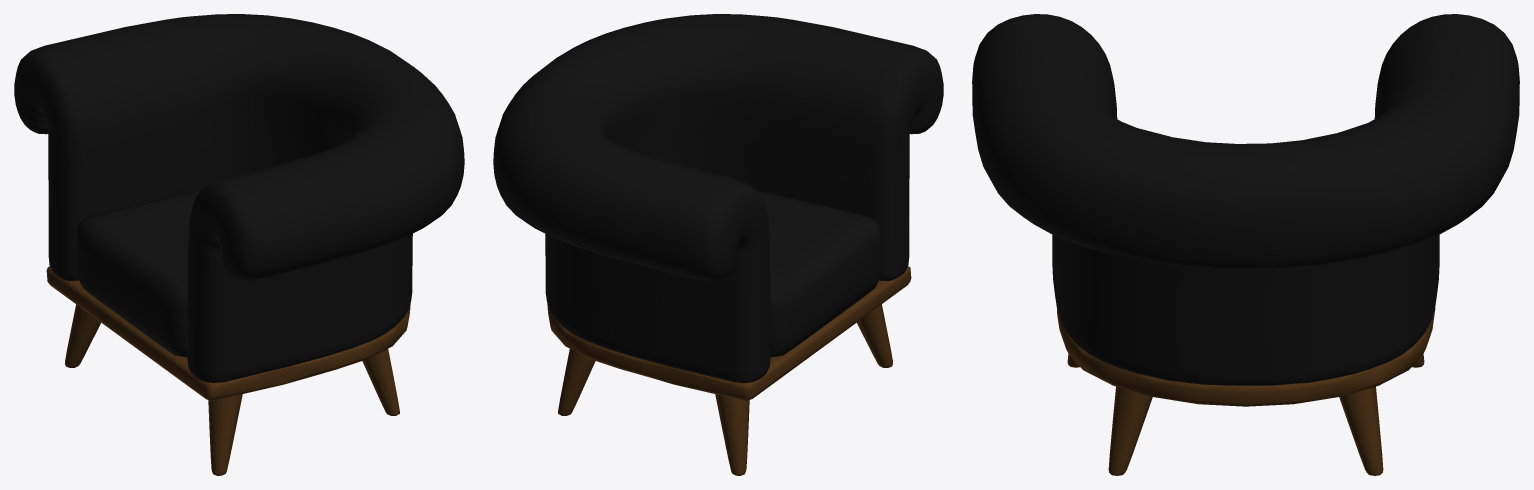
File: armchair_09_leather_black.fbx
3 renders of one model, left to right at view 1: azimuth 30°, elevation 25°; view 2: azimuth 150°, elevation 25°; view 3: azimuth 270°, elevation 25°, orthographic. The views are drawn at different scales.
Parts seen in each view (by area): view 1: armchair_09_leather_black; view 2: armchair_09_leather_black; view 3: armchair_09_leather_black.
Part boxes in pixels (left/top/right/bottom): armchair_09_leather_black: left=14, top=14, right=464, bottom=475; armchair_09_leather_black: left=493, top=14, right=943, bottom=475; armchair_09_leather_black: left=972, top=14, right=1519, bottom=475.
Bounding box in the file's own units: 106 × 102 × 145.
1 material, 1 textured.
